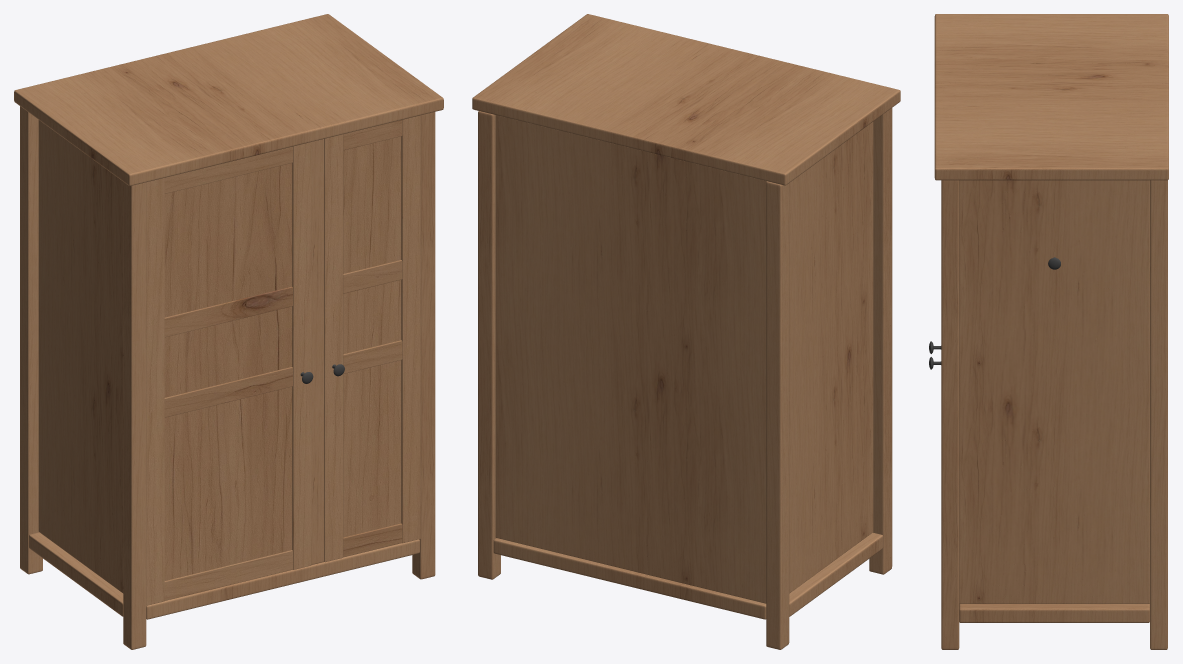
File: GuardRobeCelle.fbx
3 views of the same model, side by side, from view 1: azimuth 30°, elevation 25°; view 2: azimuth 150°, elevation 25°; view 3: azimuth 270°, elevation 25° (orthographic).
Parts seen in each view (by area): view 1: Cupboard.001, Door_L, Door_R; view 2: Cupboard.001; view 3: Cupboard.001.
Boxes of the visible parts, <box> form: Cupboard.001: <box>14,14,443,649</box>; Door_L: <box>146,142,313,605</box>; Door_R: <box>324,115,420,562</box>; Cupboard.001: <box>472,14,900,649</box>; Cupboard.001: <box>934,14,1168,649</box>.
Size of the model in its own units: 142 by 206 by 92.5.
3 materials, 1 textured.
